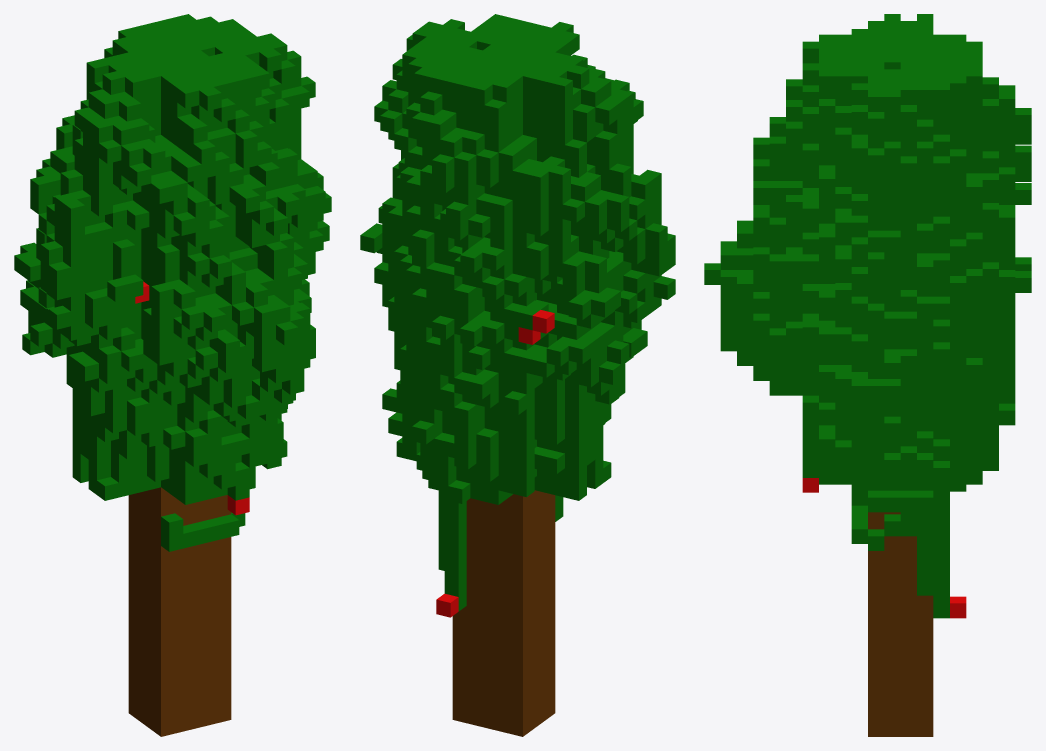
The model's file is TreeDae.dae.
3 renders of one model, left to right at view 1: azimuth 30°, elevation 25°; view 2: azimuth 150°, elevation 25°; view 3: azimuth 270°, elevation 25°, orthographic.
Visible parts, largest first — view 1: PlaneCOL; view 2: PlaneCOL; view 3: PlaneCOL.
Boxes of the visible parts, x1,y1,x2,y2 form: PlaneCOL: (14, 14, 331, 736); PlaneCOL: (360, 14, 675, 736); PlaneCOL: (704, 14, 1031, 736).
Bounding box in the file's own units: 2 × 2 × 4.5.
